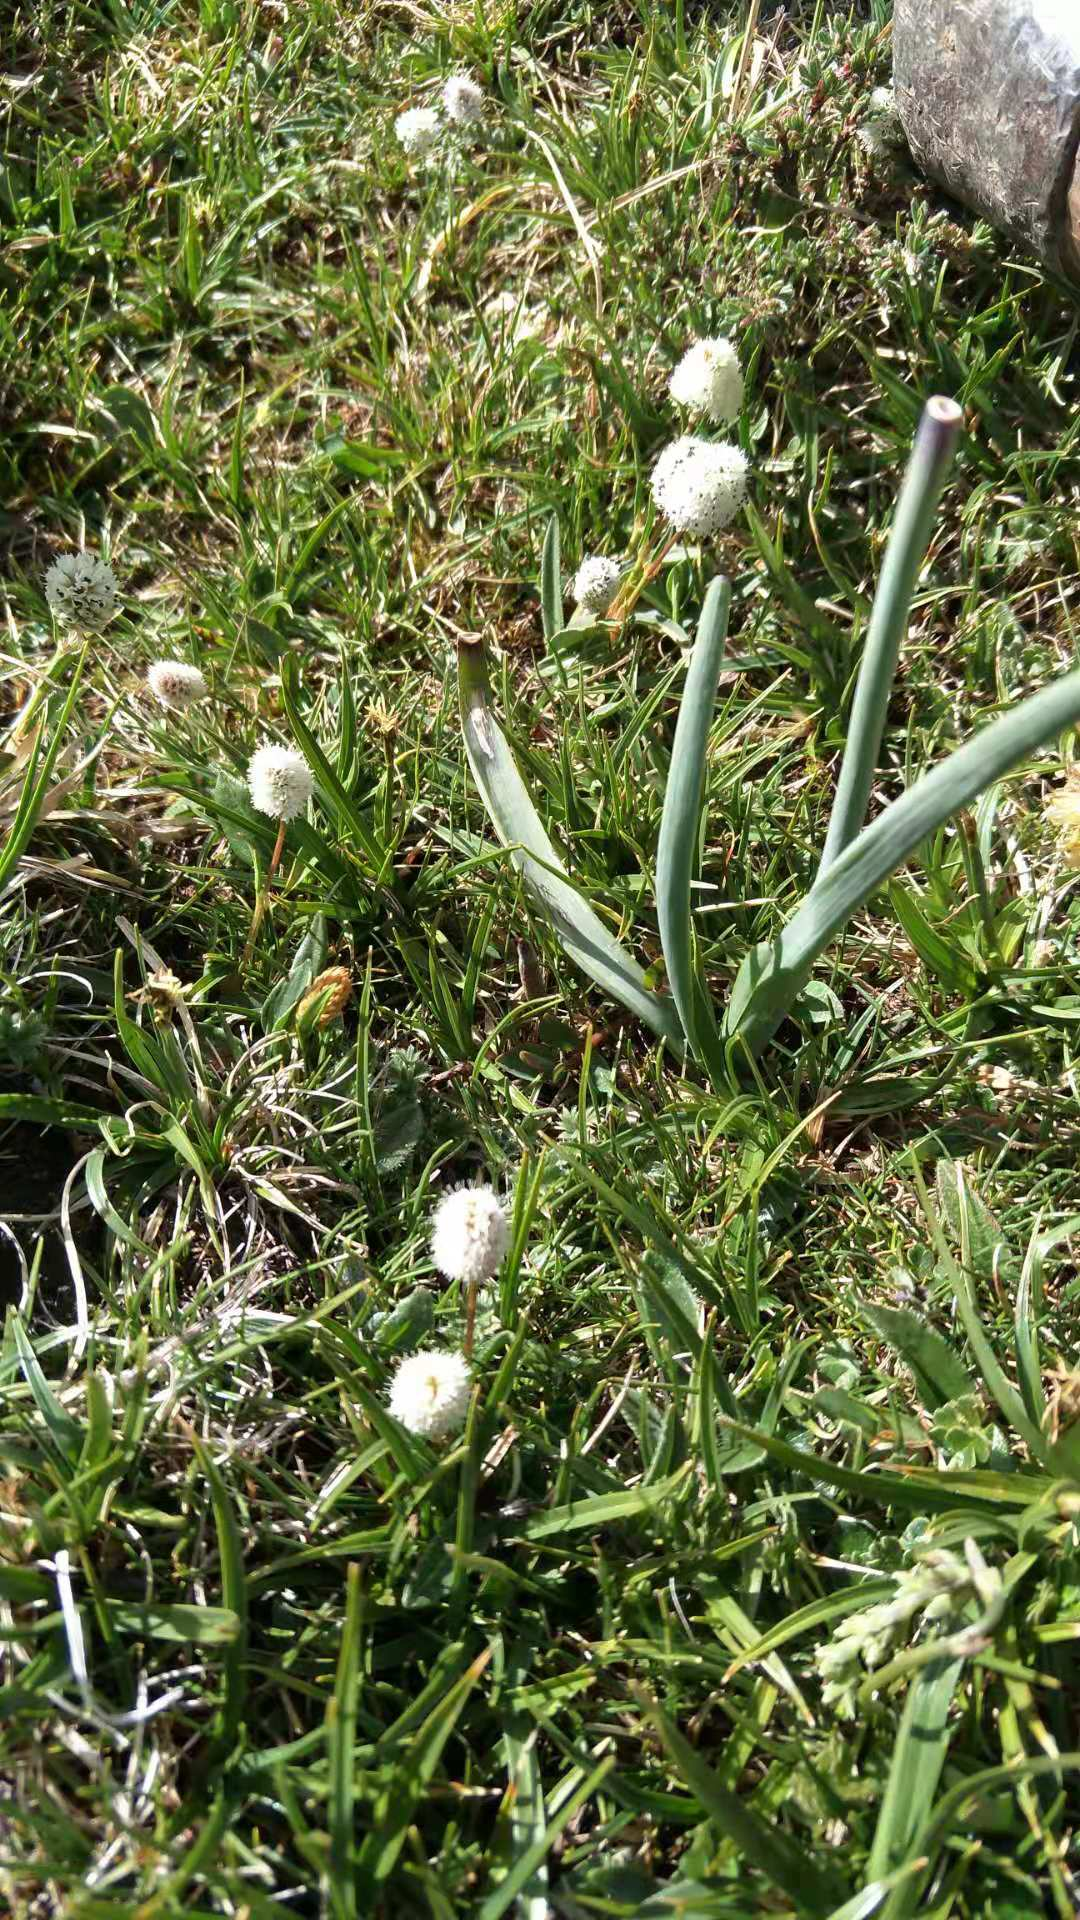Chongcao: (516, 936, 546, 1000)
